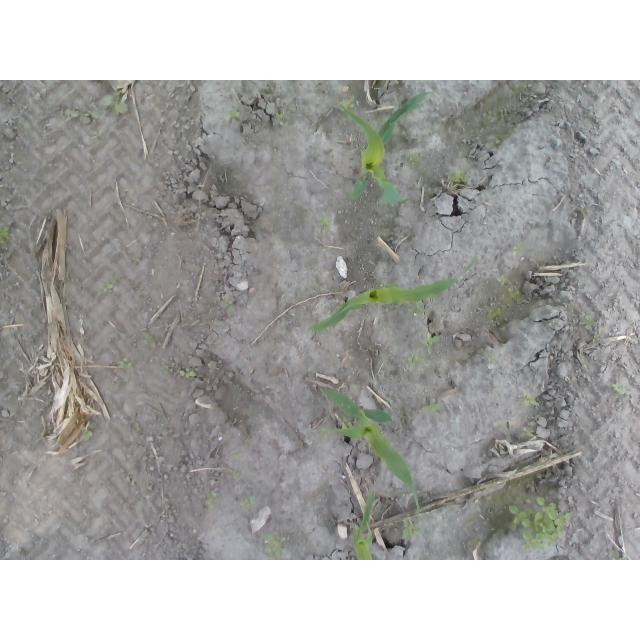Maize: (318, 386, 424, 524), (307, 257, 482, 331), (334, 94, 437, 207), (352, 488, 383, 560)
Weeds: (507, 497, 572, 548), (61, 109, 103, 139), (100, 93, 130, 121), (263, 536, 287, 561), (583, 315, 602, 341), (402, 519, 422, 543), (408, 299, 428, 319), (98, 278, 117, 297), (81, 422, 99, 442), (409, 348, 426, 368), (443, 167, 465, 182), (521, 389, 539, 407), (424, 333, 441, 352), (1, 227, 12, 253), (422, 402, 441, 414), (342, 95, 357, 110), (143, 334, 157, 350), (316, 215, 330, 230), (224, 298, 237, 314), (117, 359, 134, 371), (242, 497, 256, 511), (613, 382, 627, 395), (206, 492, 219, 506), (408, 155, 421, 169), (178, 370, 198, 379), (7, 156, 21, 168), (483, 351, 501, 360), (515, 241, 526, 255), (227, 112, 244, 121), (276, 113, 289, 124), (230, 452, 243, 460), (525, 427, 535, 437), (231, 471, 242, 480), (163, 366, 173, 373)
